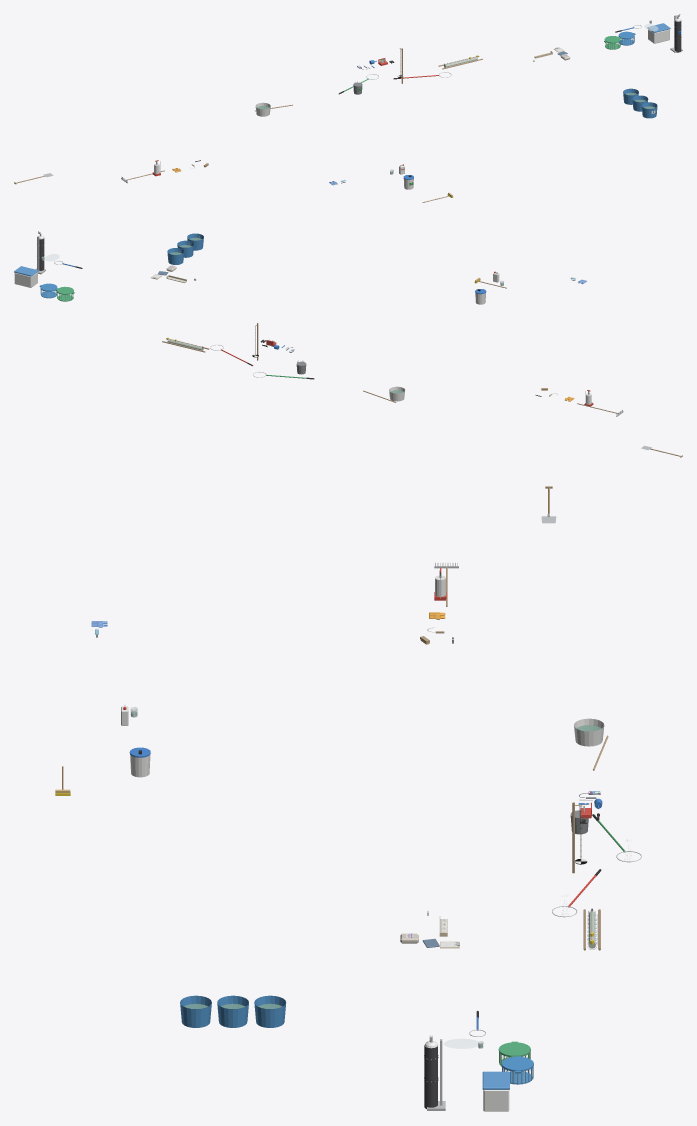
File: kit-CHWIQEsy.glb
The picture shows the model from 3 angles, top to bottom: view 1: azimuth 30°, elevation 25°; view 2: azimuth 150°, elevation 25°; view 3: azimuth 270°, elevation 25°; orthographic projection. The views are drawn at different scales.
Parts seen in each view (by area): view 1: ITEM_insulated_box, ITEM_o2_cylinder; view 2: ITEM_insulated_box; view 3: ITEM_o2_cylinder, ITEM_insulated_box, ITEM_tub_s, ITEM_tub_l, ITEM_tub_m.
Part boxes in pixels (x1,y1,x2,y2): ITEM_insulated_box: (647,23,670,43); ITEM_o2_cylinder: (670,14,682,52); ITEM_insulated_box: (14,266,38,287); ITEM_o2_cylinder: (424,1035,445,1110); ITEM_insulated_box: (482,1071,509,1111); ITEM_tub_s: (254,995,286,1027); ITEM_tub_l: (180,995,211,1027); ITEM_tub_m: (217,995,248,1027).
Size of the model in its own units: 23.85 by 1.31 by 9.48.
38 materials, 5 textured.
